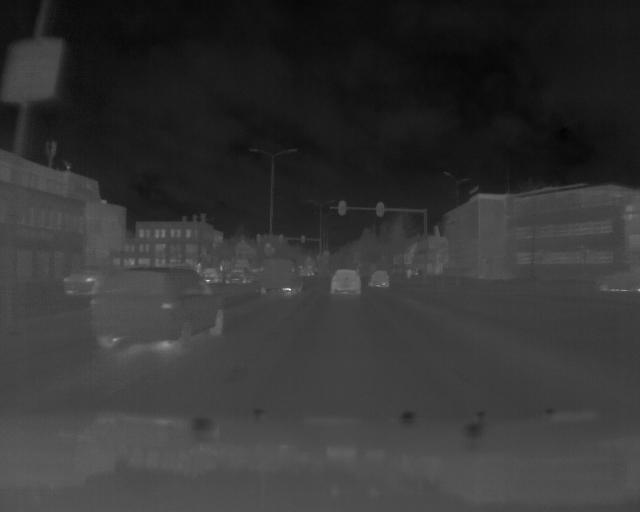car: (88, 265, 226, 354), (258, 255, 304, 295), (64, 268, 125, 295), (327, 268, 362, 295), (367, 270, 390, 290)
